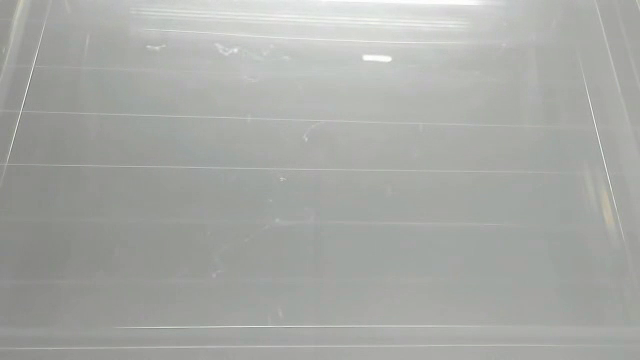alpha: (358, 50, 396, 66)
